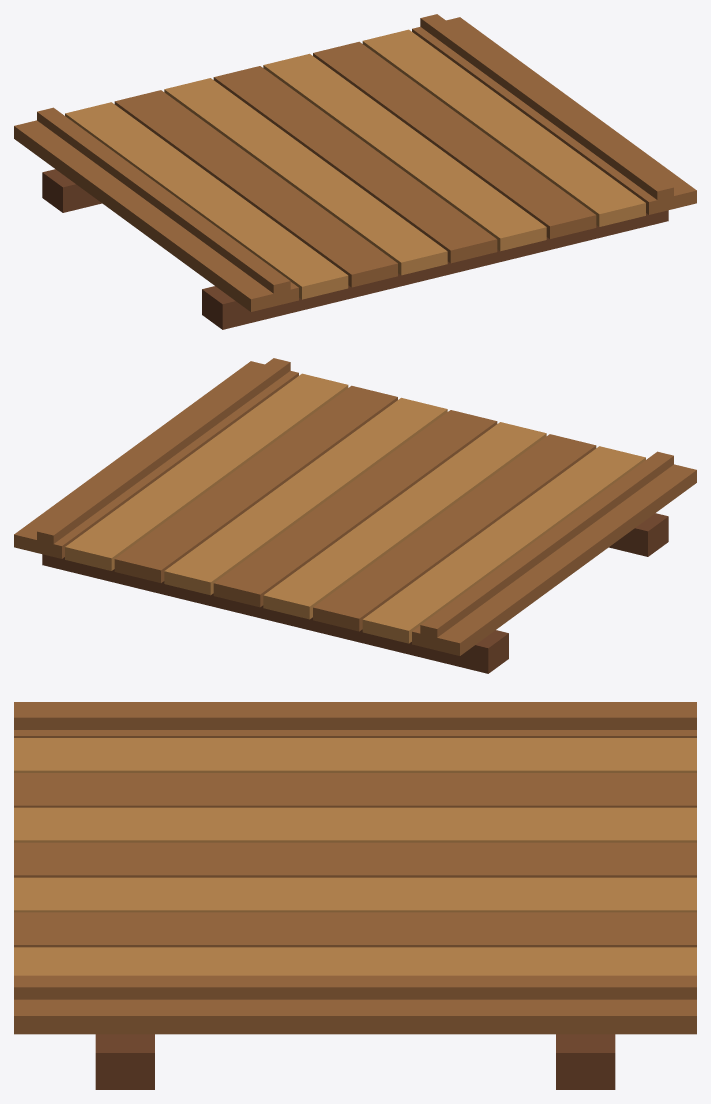
The model's file is boardwalk_straight.glb.
3 views of the same model, one above another, from view 1: azimuth 30°, elevation 25°; view 2: azimuth 150°, elevation 25°; view 3: azimuth 270°, elevation 25° (orthographic). The views are drawn at different scales.
Parts seen in each view (by area): view 1: boardwalk_straight.001; view 2: boardwalk_straight.001; view 3: boardwalk_straight.001.
Part boxes in pixels (box(x1,y1,x2,y2)): boardwalk_straight.001: box(14, 14, 696, 329); boardwalk_straight.001: box(14, 358, 696, 673); boardwalk_straight.001: box(14, 702, 696, 1089).
Size of the model in its own units: 2 by 0.257 by 1.84.
